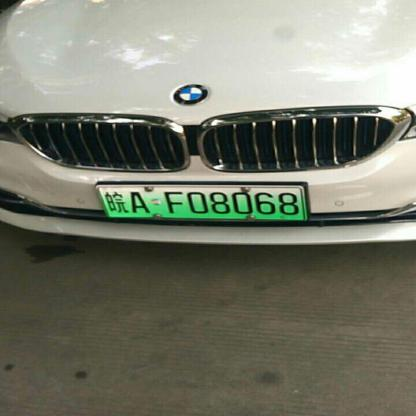lp: (96, 186, 306, 219)
